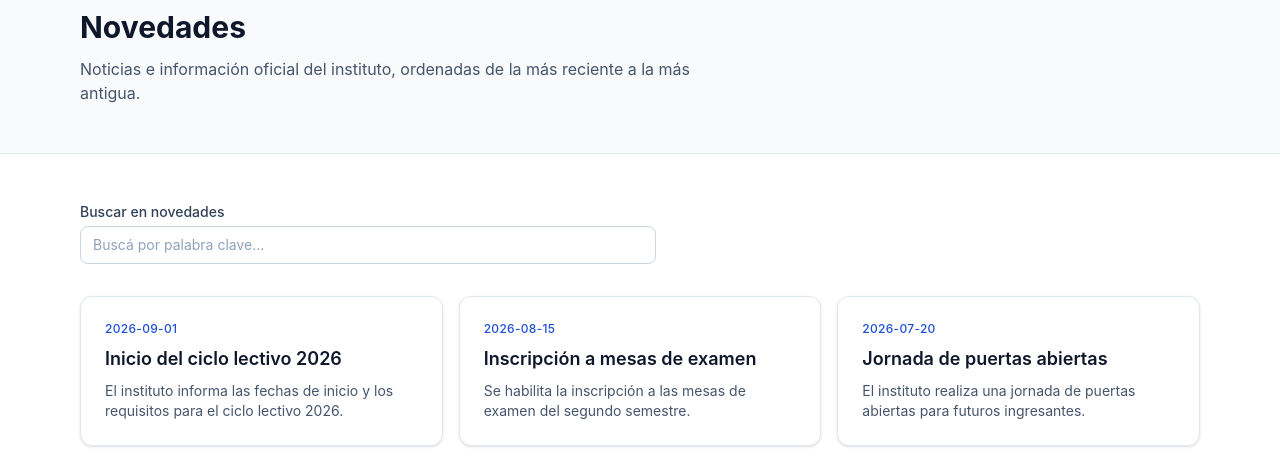
NoticiasPage › muestra un estado vacío cuando no hay coincidencias
Type "algo que no existe" into the search field labelled "Buscar en novedades".
click(368, 245); type("algo que no existe")  # box [80, 226, 656, 264]
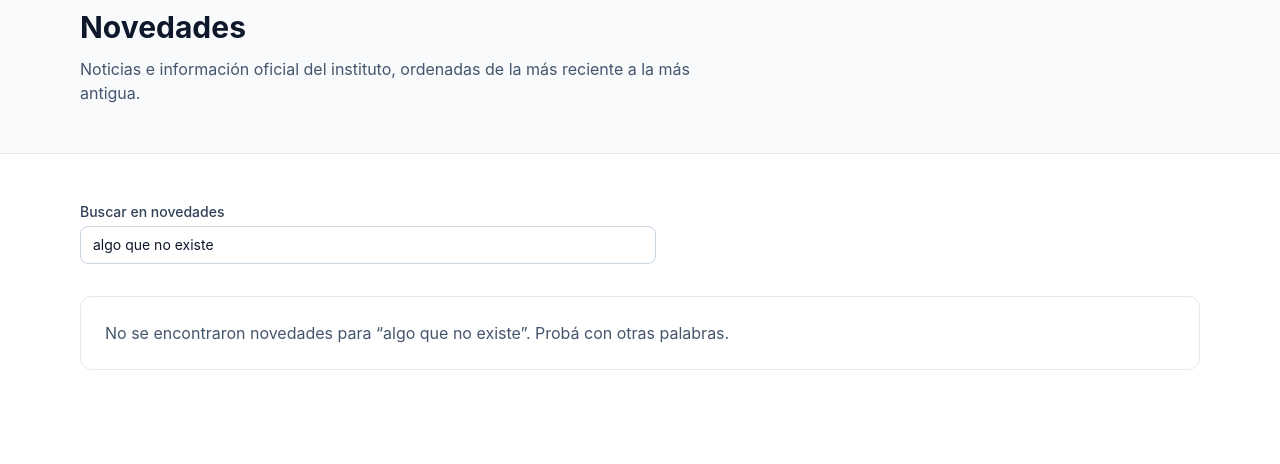
Now the text "No se encontraron novedades" is shown, box [105, 323, 383, 343]
